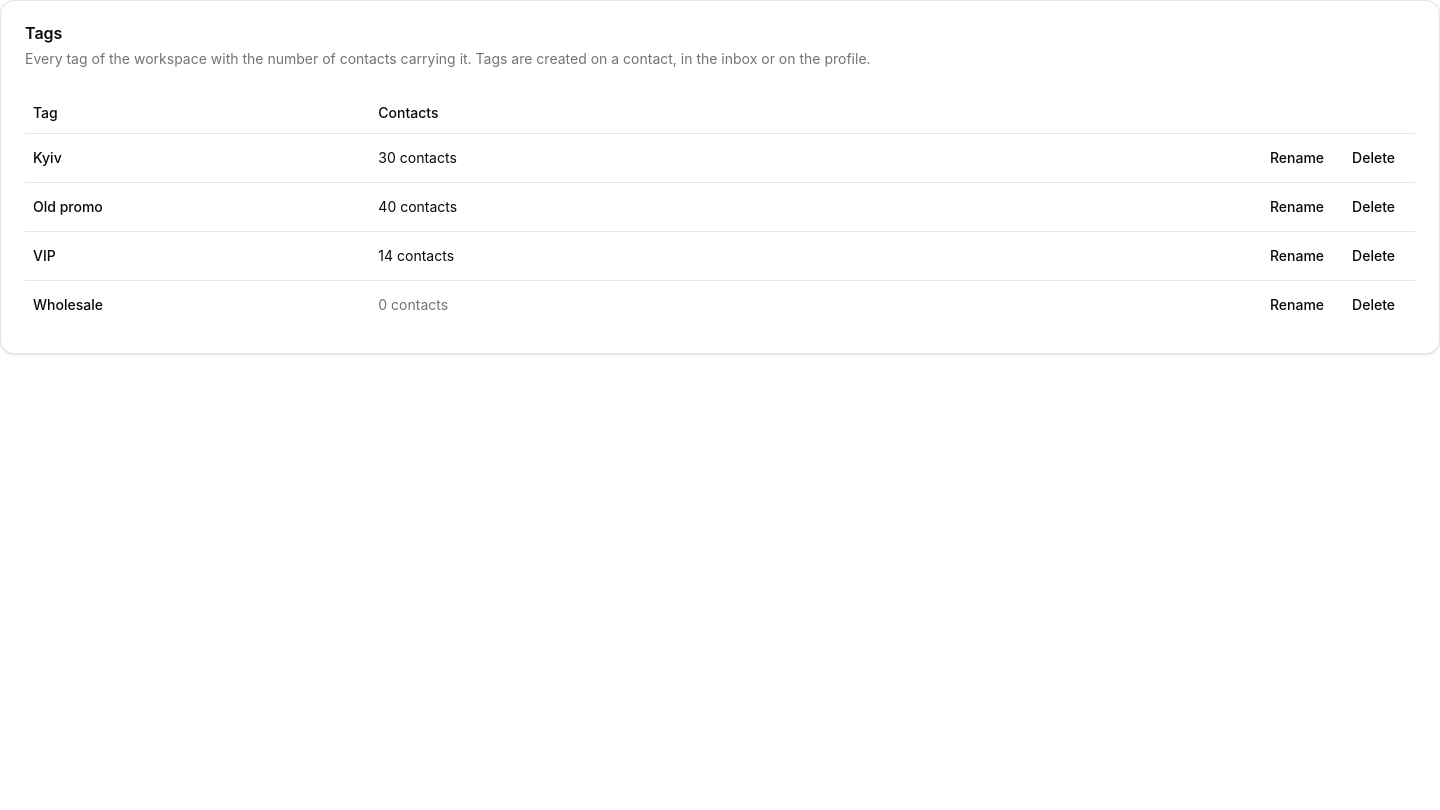
SCR-21 owner actions (AC-09, AC-11, AC-14) › a delete removes the row, re-reads the list and shows the success notice
Click the button "Delete" in the row of "Old promo": [1374, 206] box x1=1340 y1=190 x2=1407 y2=222
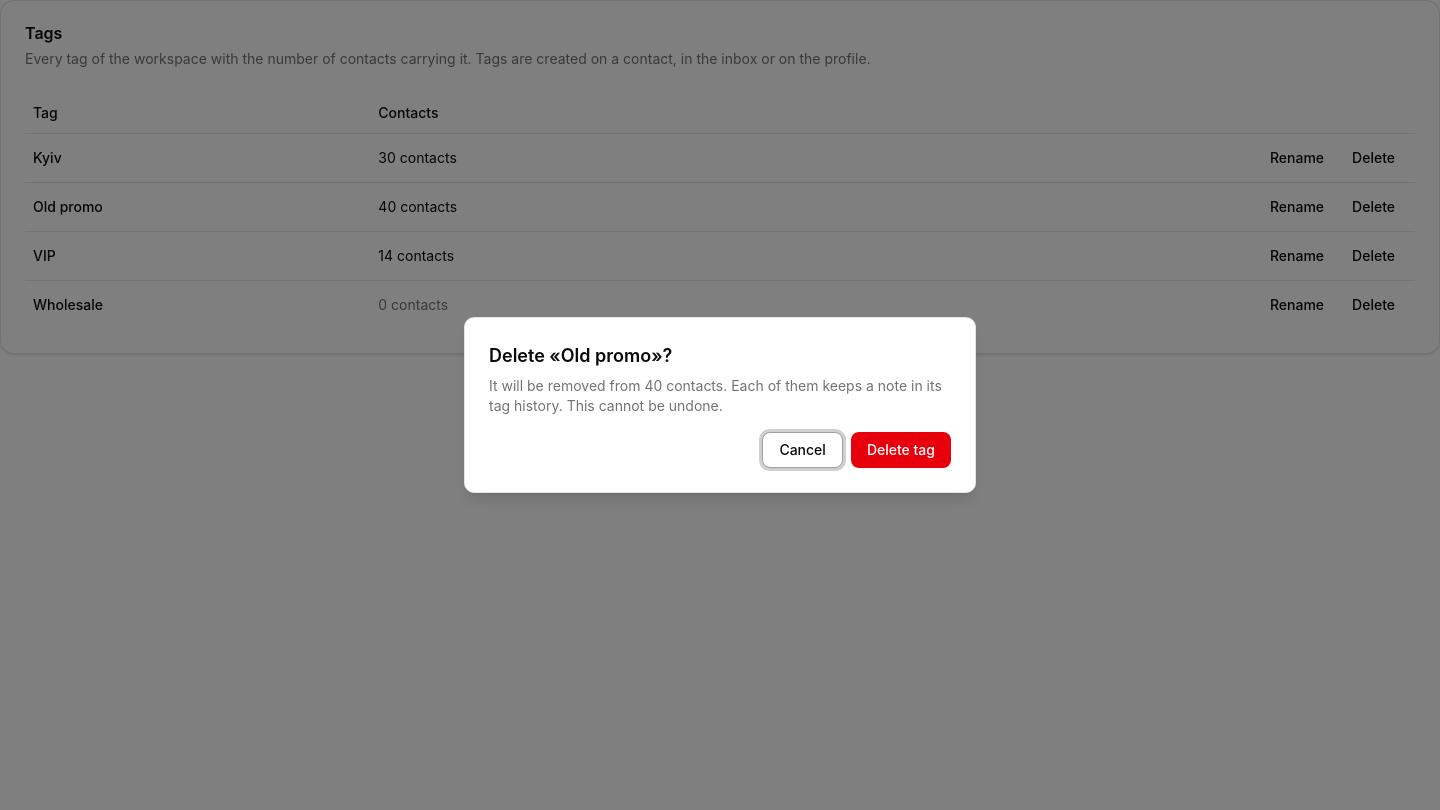
Click the button "Delete tag": [901, 450] box x1=851 y1=432 x2=951 y2=468
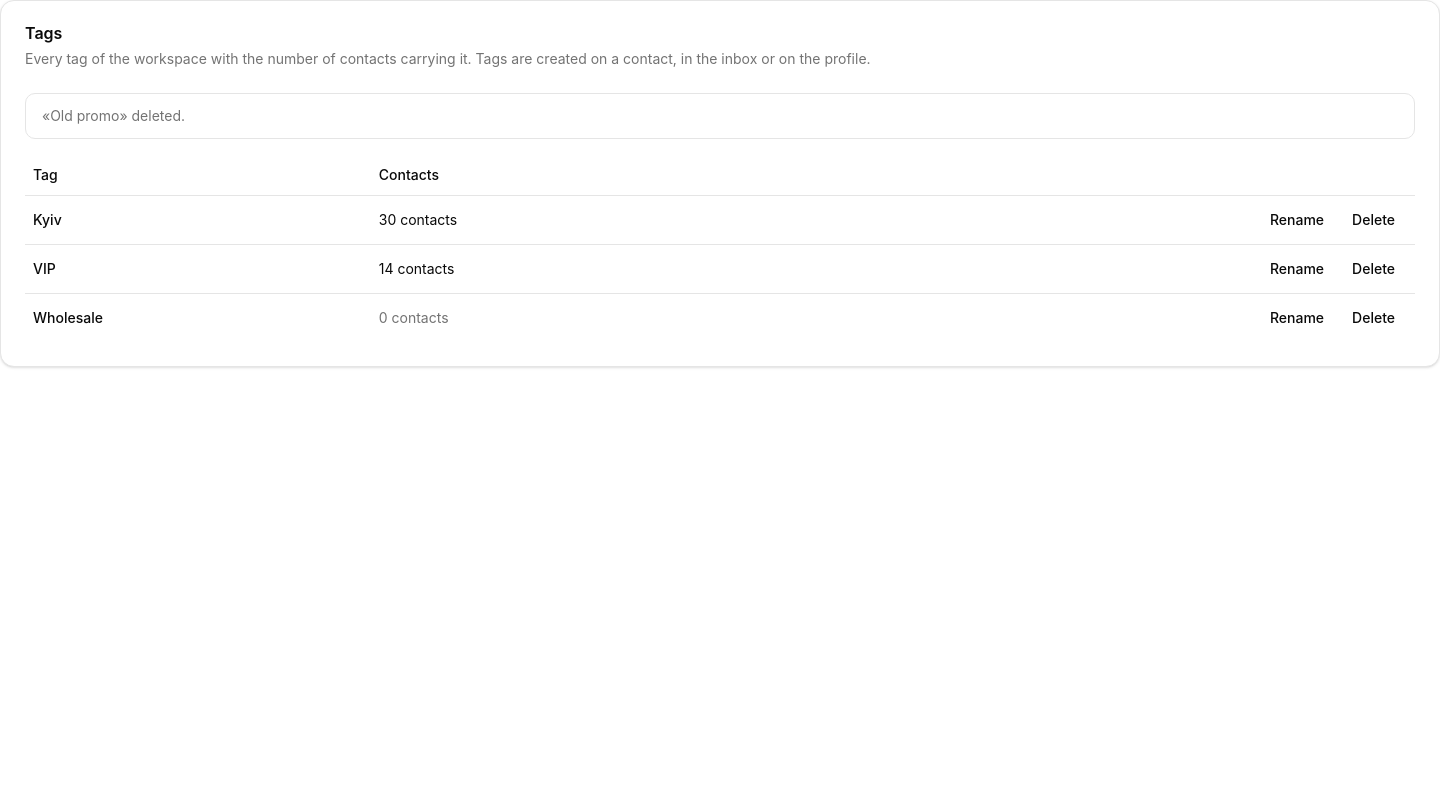
Check: the dialog is gone
Check: the text "«Old promo» deleted." is shown, box x1=42 y1=107 x2=185 y2=124
